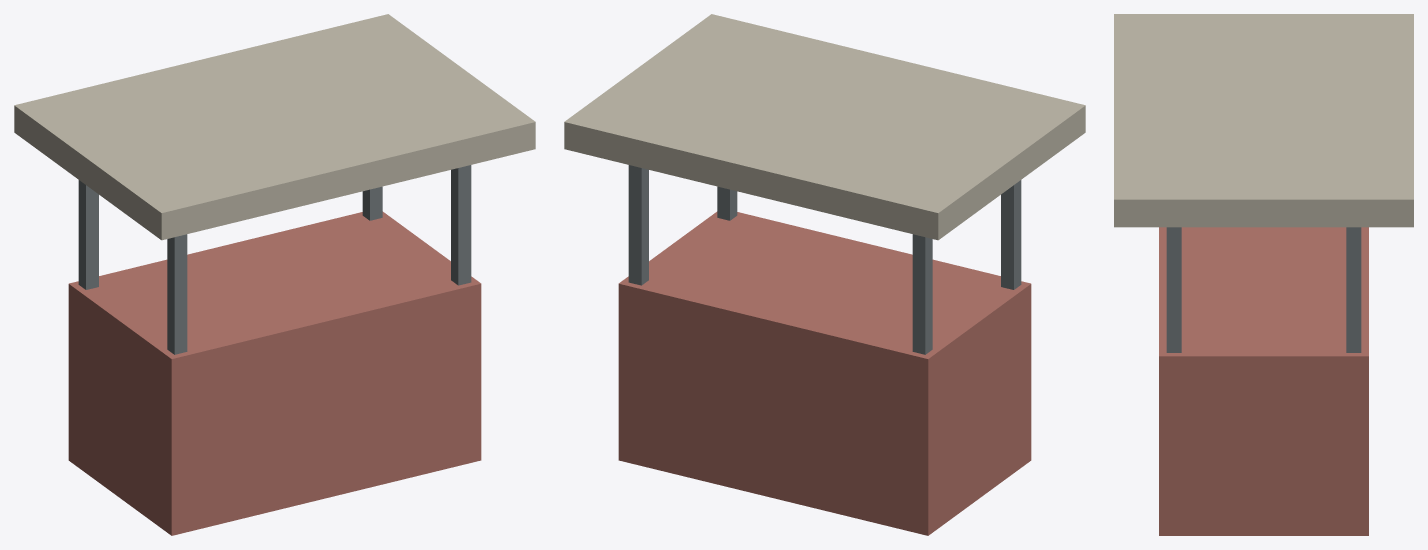
The model's file is iz2_district_fish_stall.glb.
3 renders of one model, left to right at view 1: azimuth 30°, elevation 25°; view 2: azimuth 150°, elevation 25°; view 3: azimuth 270°, elevation 25°, orthographic.
Visible parts, largest first — view 1: body; view 2: body; view 3: body.
Part boxes in pixels (x1,y1,x2,y2): body: (14, 14, 535, 535); body: (564, 14, 1085, 535); body: (1114, 14, 1413, 535).
Size of the model in its own units: 1.45 by 1.28 by 0.99.
